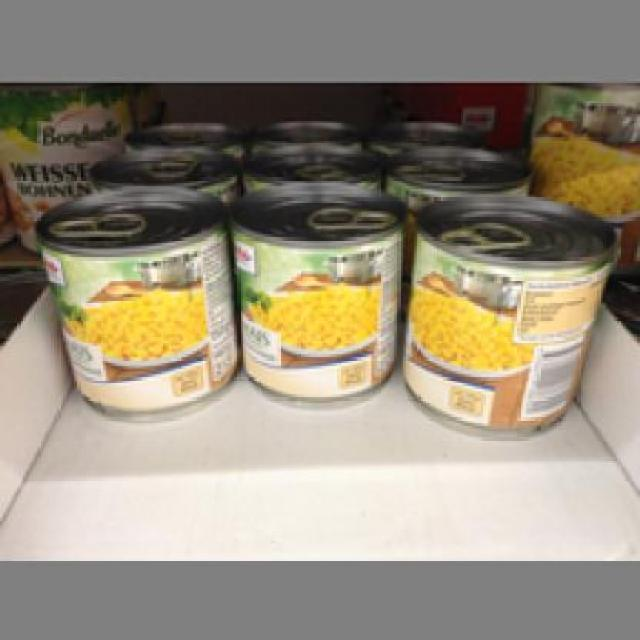Corn: (397, 194, 617, 437), (31, 186, 238, 423), (228, 176, 402, 410)
